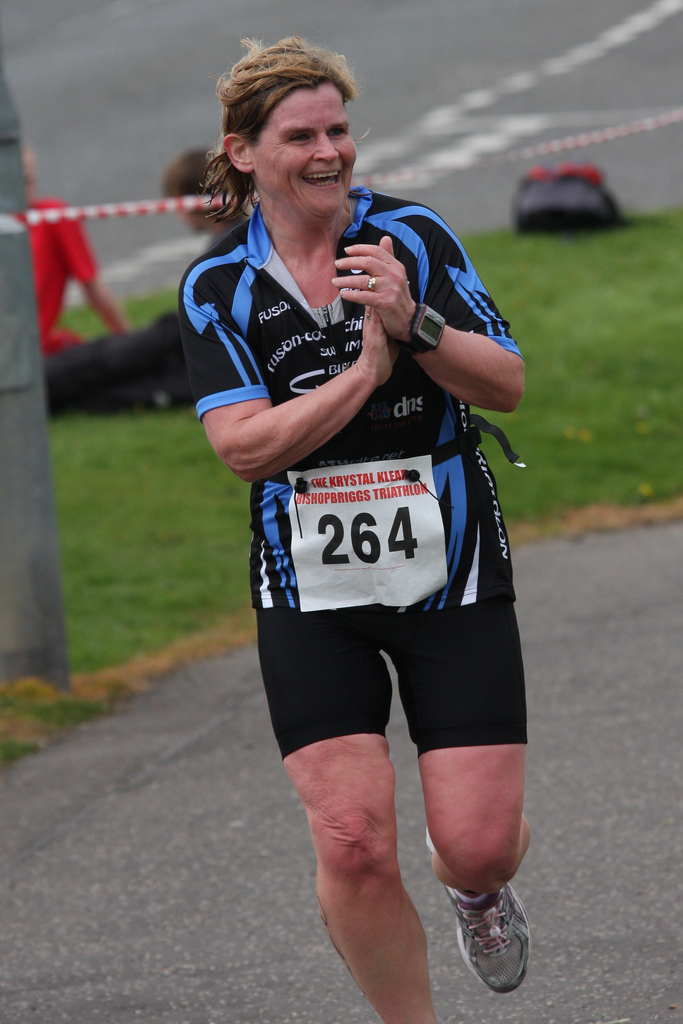Footwear: (453, 892, 537, 1000)
